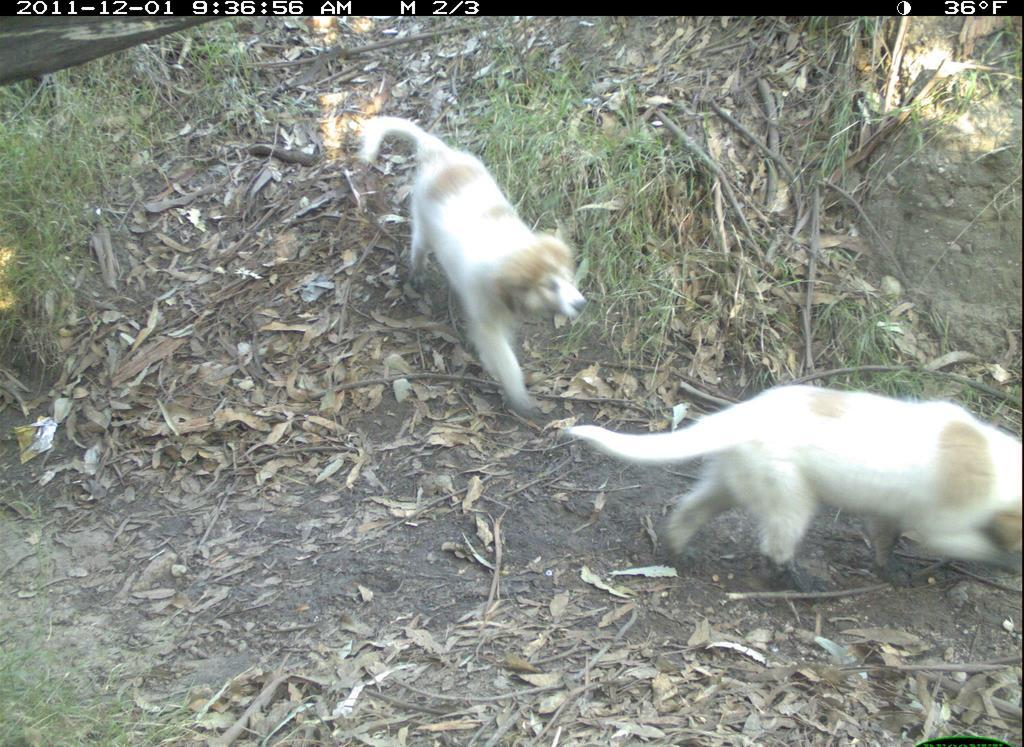dog: (596, 378, 1021, 592), (349, 112, 587, 417)
